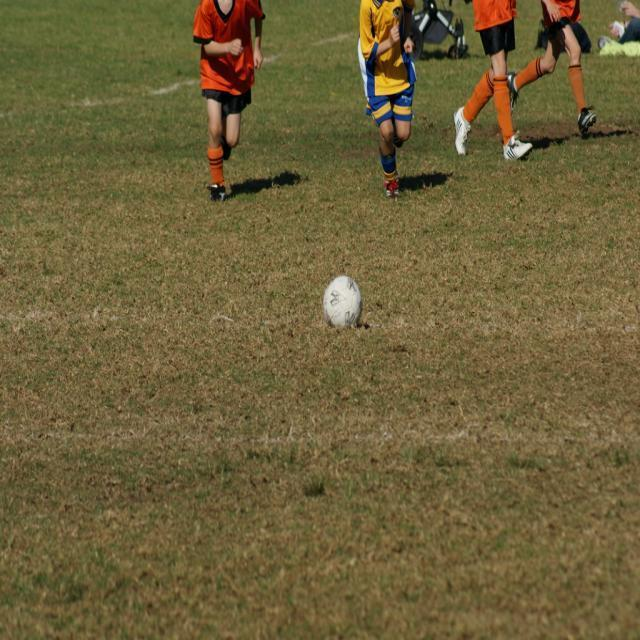ball: (320, 275, 365, 328)
